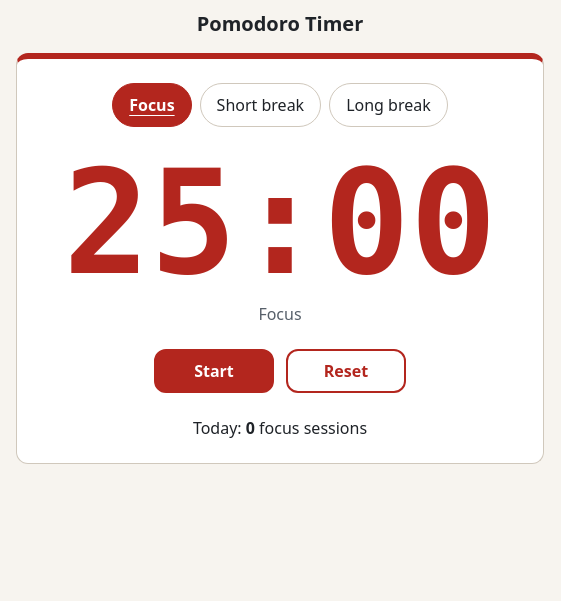
Scenario: S4 Sound and in-page message when a session ends › the message is in an aria-live region and has a Dismiss button that removes it
Step 1. Click the button "Start" → (214, 371), box [154,349,274,393]
Wait 1500500 ms
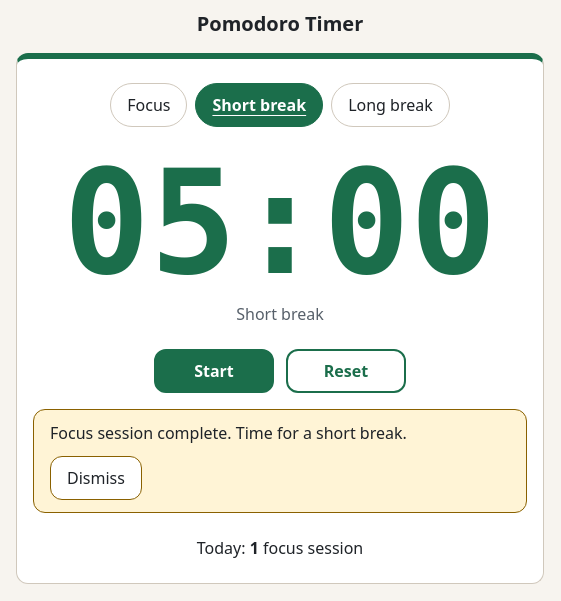
Step 2. Click the button "Dismiss" → (96, 478), box [50,456,142,500]
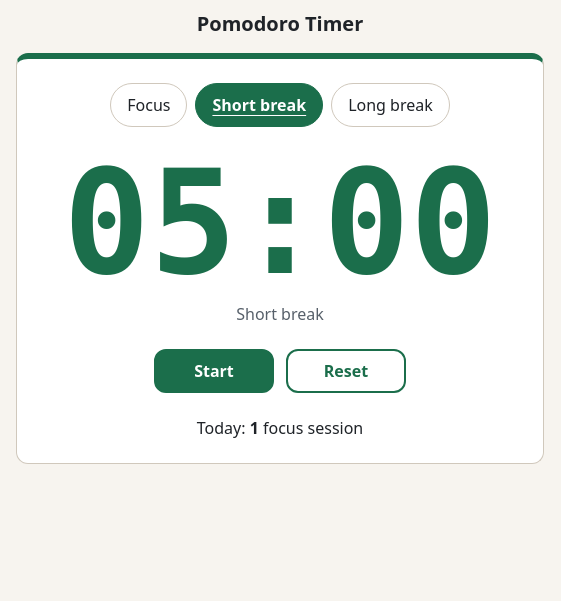
Check: the button "Dismiss" is gone
